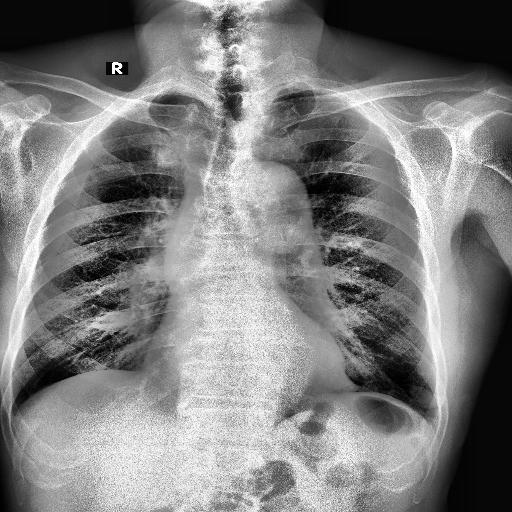0- Aortic enlargement: (231, 164, 313, 232), (244, 160, 312, 239), (234, 164, 310, 222)
8- Nodule-Mass: (408, 384, 440, 410)
